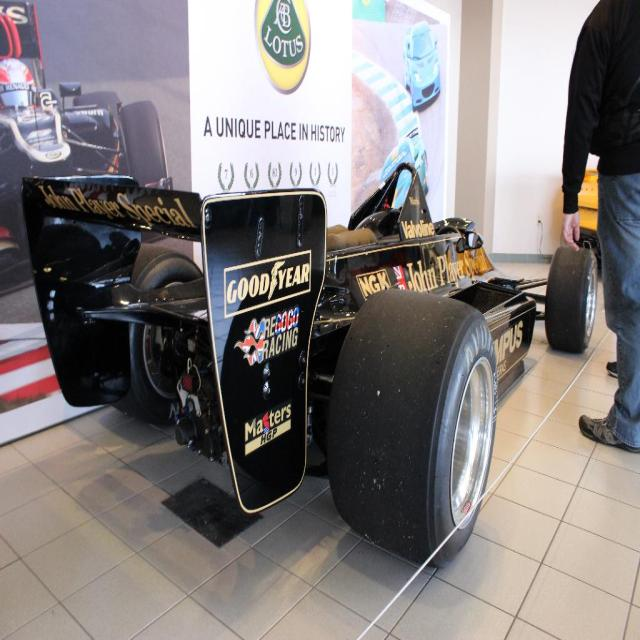car: (20, 158, 600, 565)
